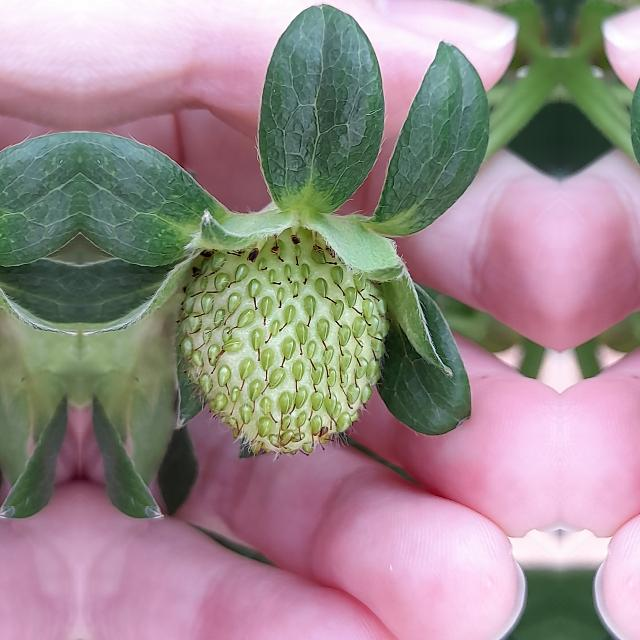Health_25: (175, 210, 391, 462)
